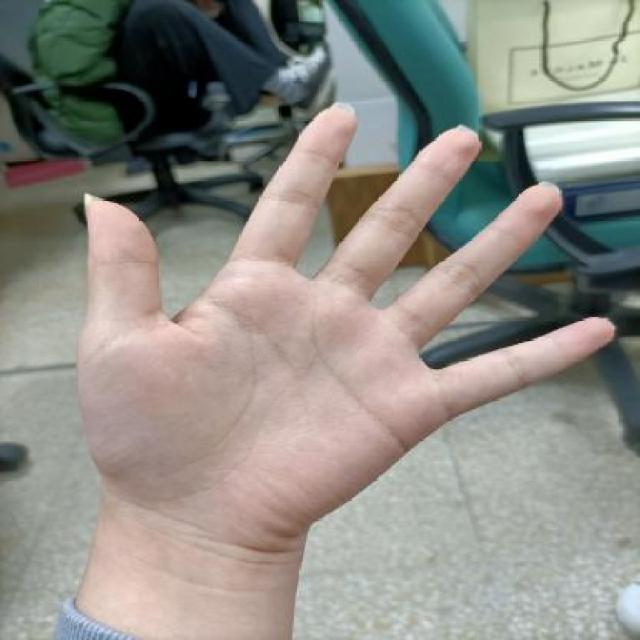bare_hand: (34, 90, 626, 562)
